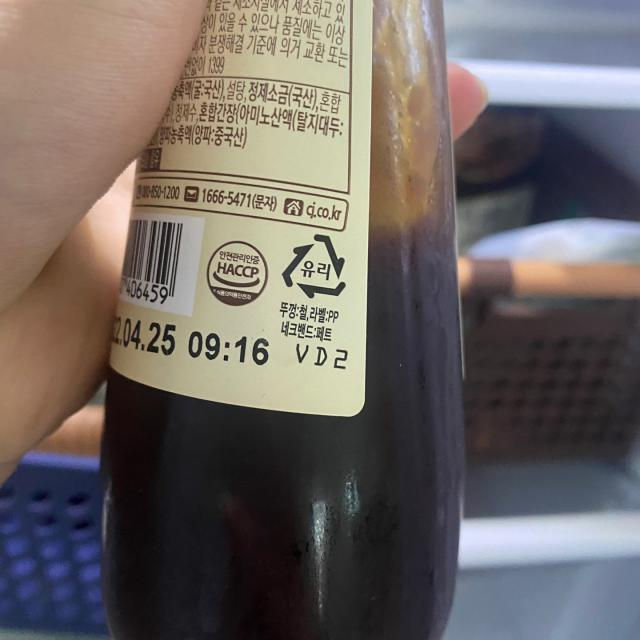Glass: (276, 230, 348, 303)
